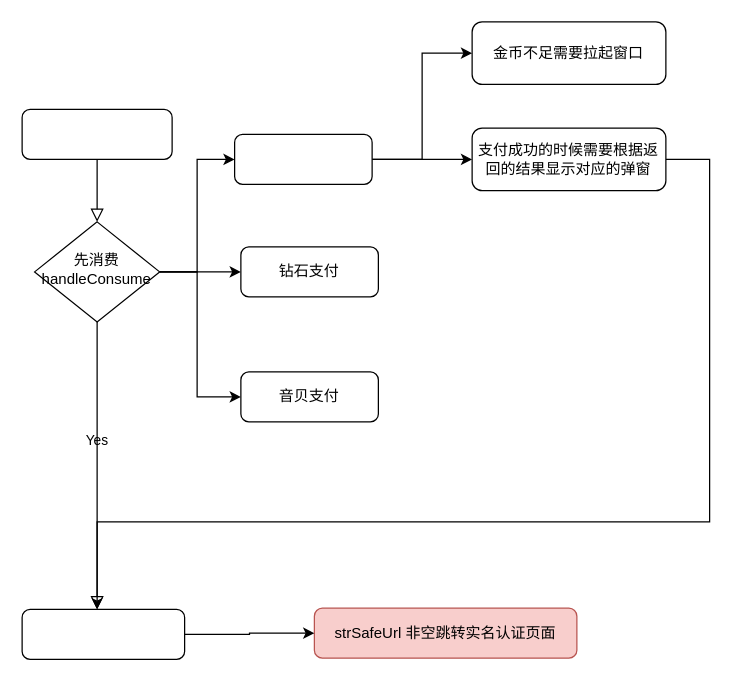
This 741x681 diagram has some shape labels left out. Here are the shapes that lost their labels. From the top down, the centre of each, then its label:
At point 96,133: "提交纹理的过程 handleSave".
At point 302,158: "金币支付".
At point 103,633: "返回体".
